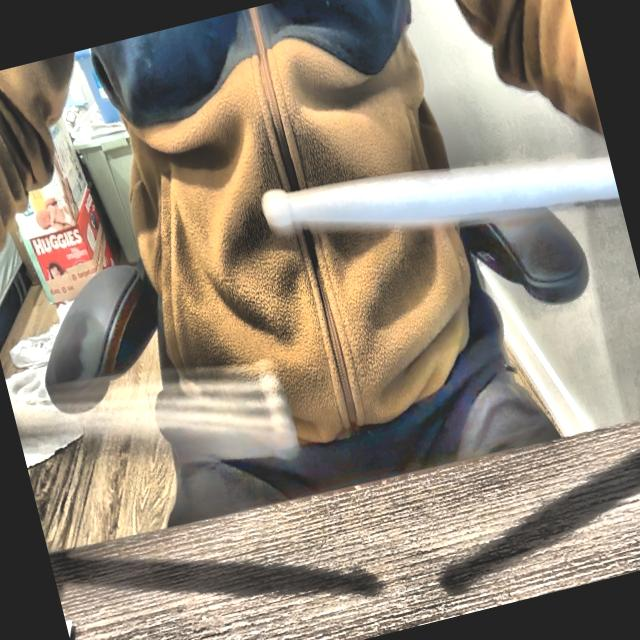Drumstick-Heads: (250, 346, 307, 468), (252, 176, 302, 247)
